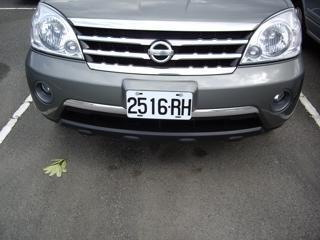plate: (124, 89, 193, 121)
